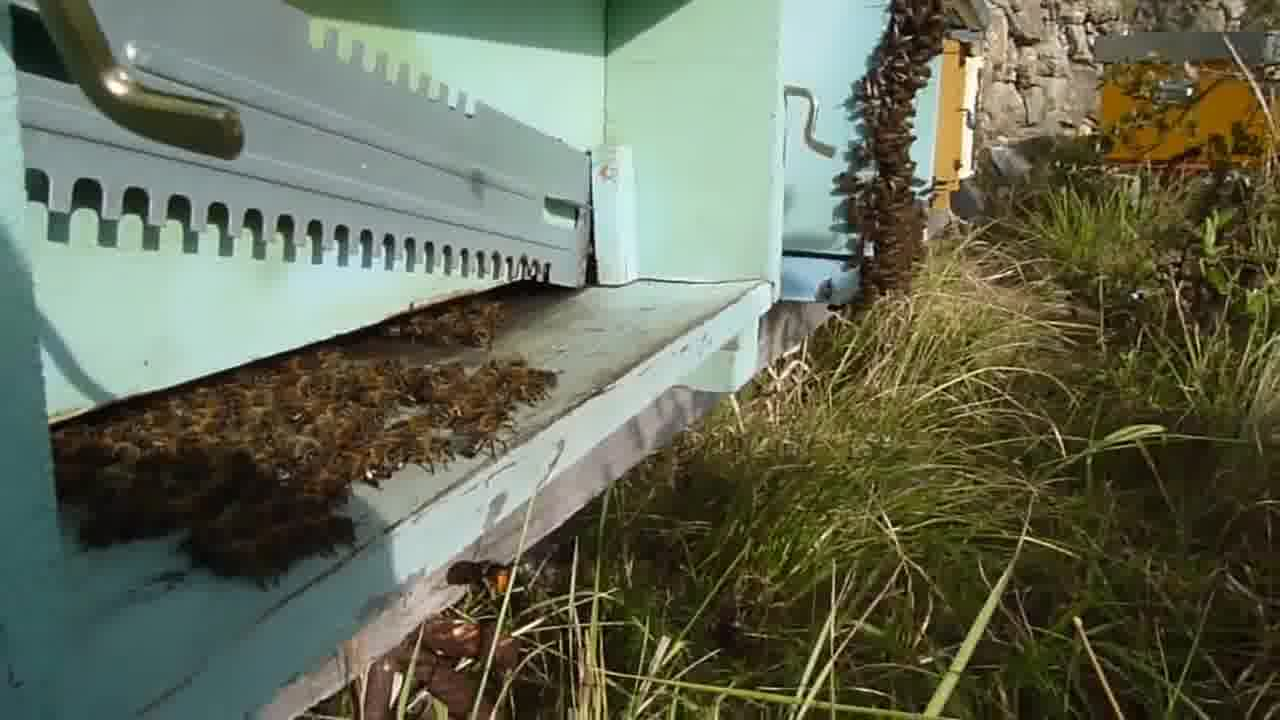bee: (54, 420, 354, 571), (355, 360, 482, 474), (150, 357, 353, 417), (837, 173, 929, 296), (851, 74, 918, 171), (401, 294, 504, 351), (883, 1, 936, 81), (479, 377, 553, 418)
hornet: (447, 548, 525, 608)
